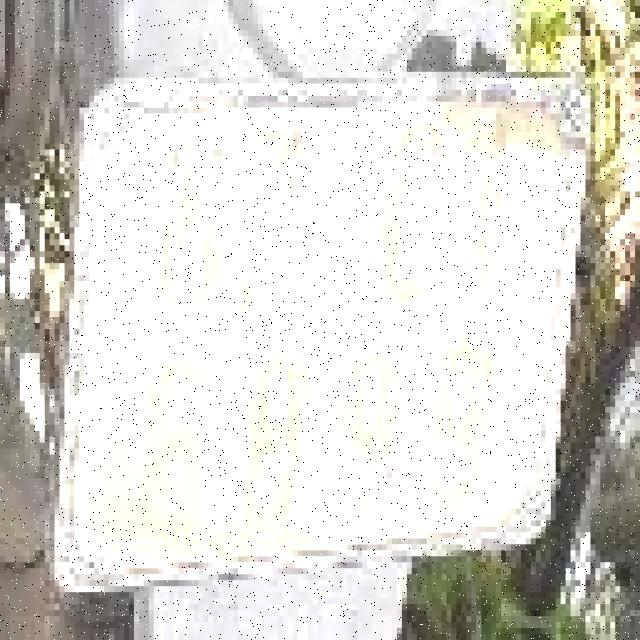1: (454, 108, 523, 323)
6: (154, 111, 228, 326)
7: (238, 105, 313, 332)
8: (122, 341, 220, 544), (231, 344, 315, 553)
9: (429, 323, 519, 520), (330, 329, 414, 538)
C: (362, 108, 447, 329)
